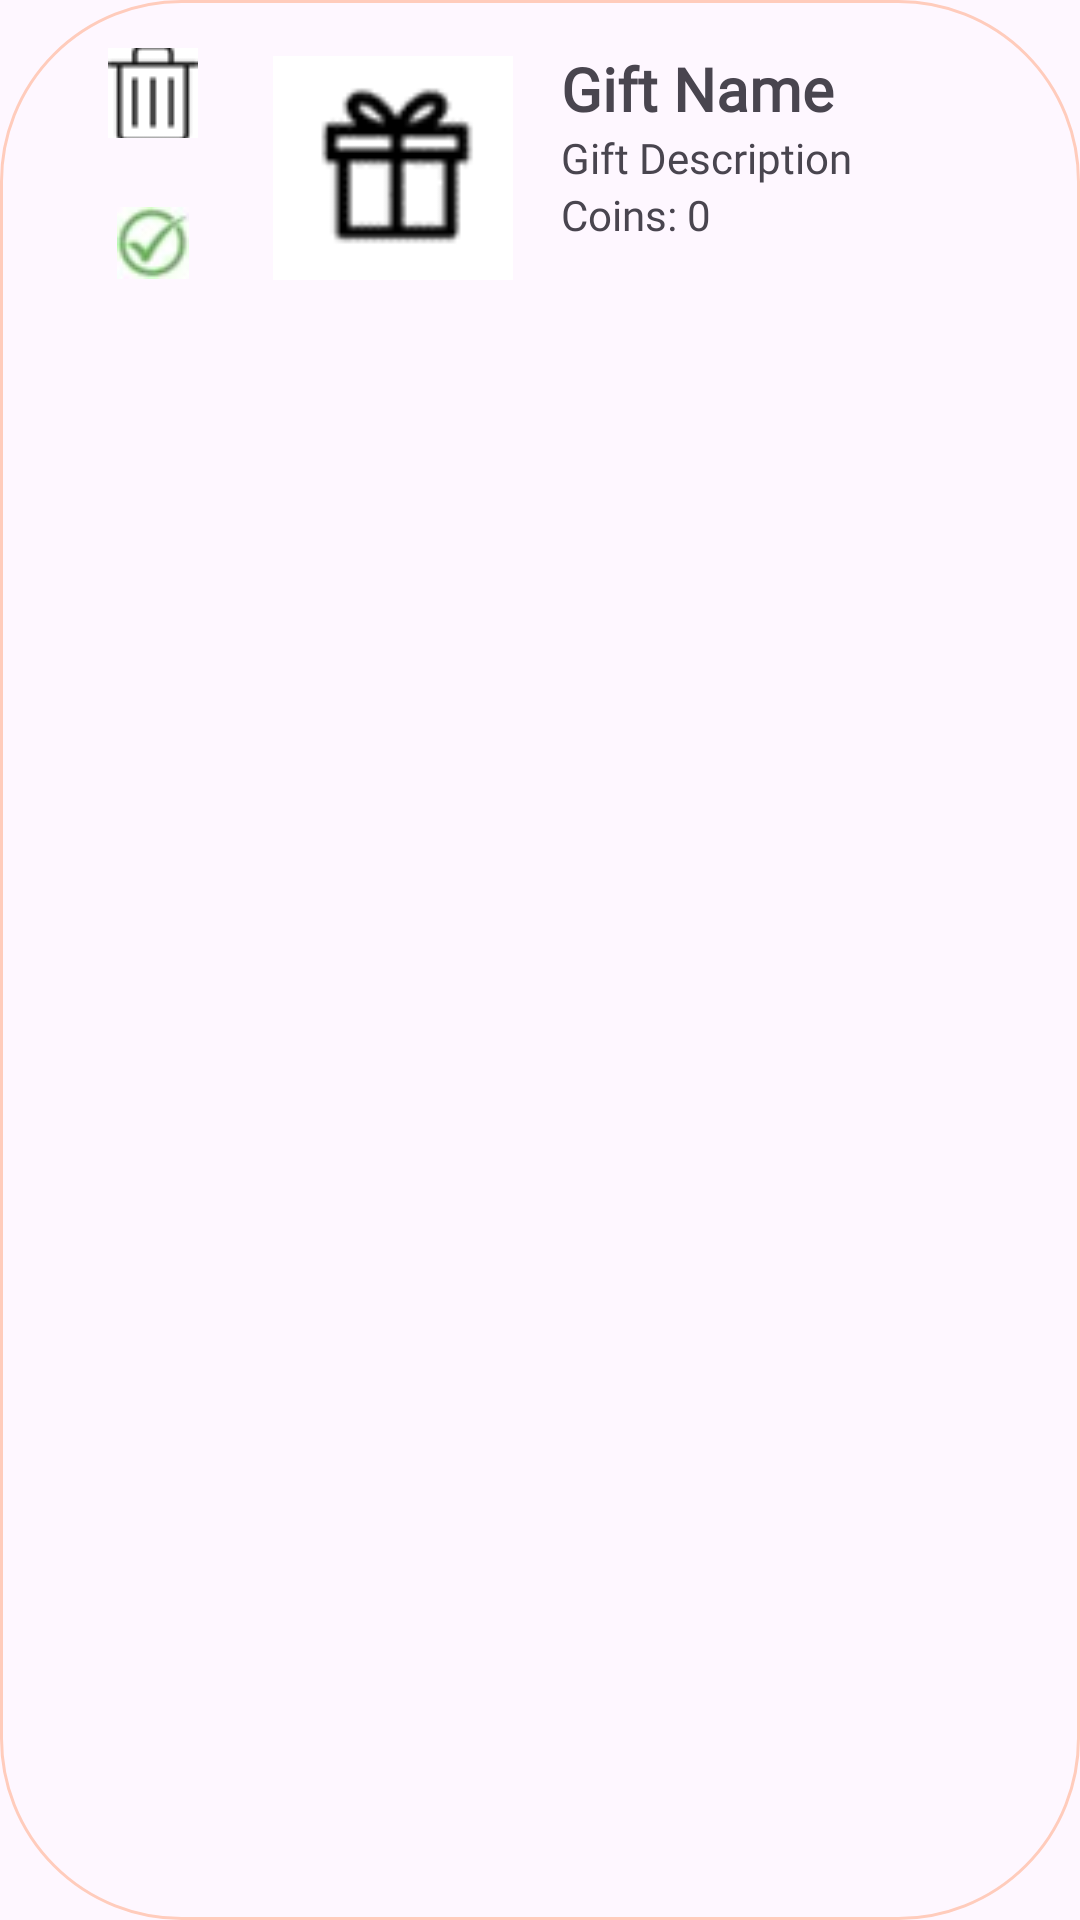

Screen size 1080 × 1920. Icon name, then its center in pixels as (x,y):
delete: (153,93)
